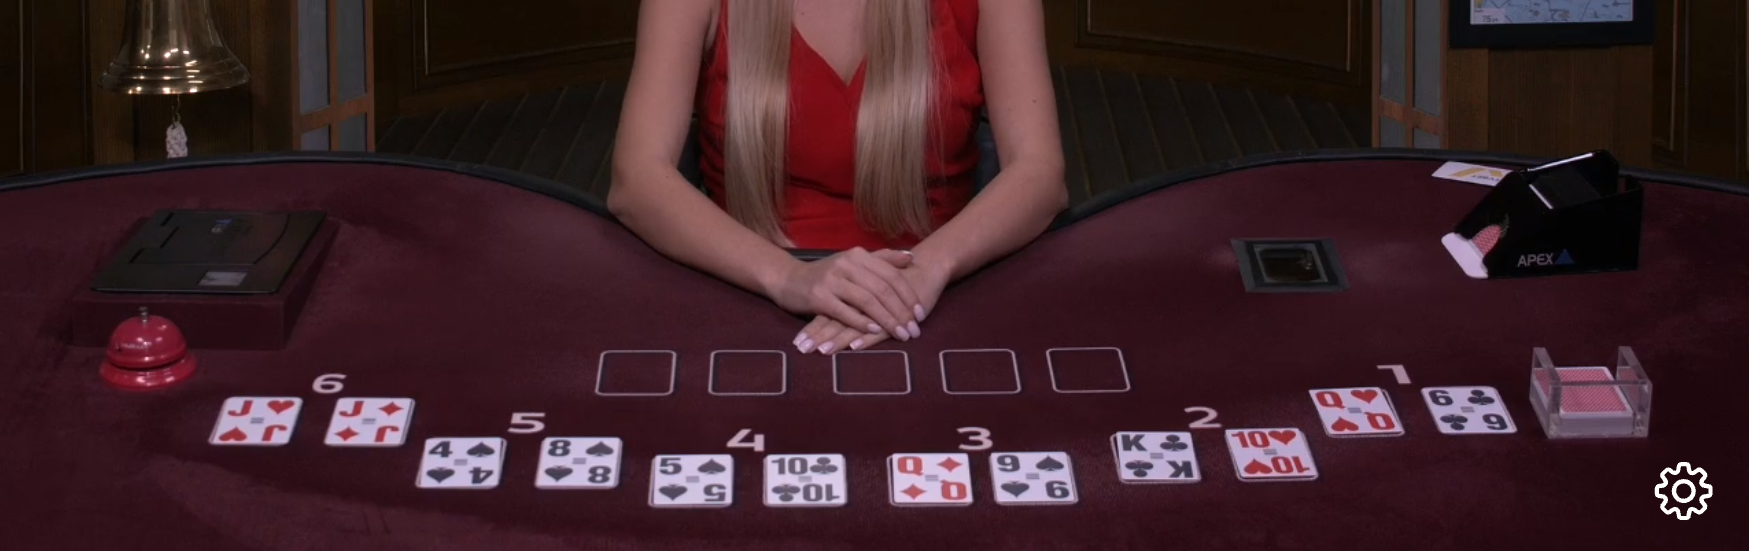10c: (763, 446, 848, 513)
10h: (1233, 424, 1318, 486)
4s: (417, 436, 511, 494)
5s: (649, 445, 740, 511)
6c: (1422, 386, 1521, 437)
8s: (533, 428, 630, 491)
9s: (992, 446, 1080, 506)
jd: (318, 391, 416, 453)
jh: (205, 381, 302, 449)
kc: (1109, 428, 1206, 489)
qd: (885, 445, 976, 512)
qh: (1304, 385, 1410, 439)
